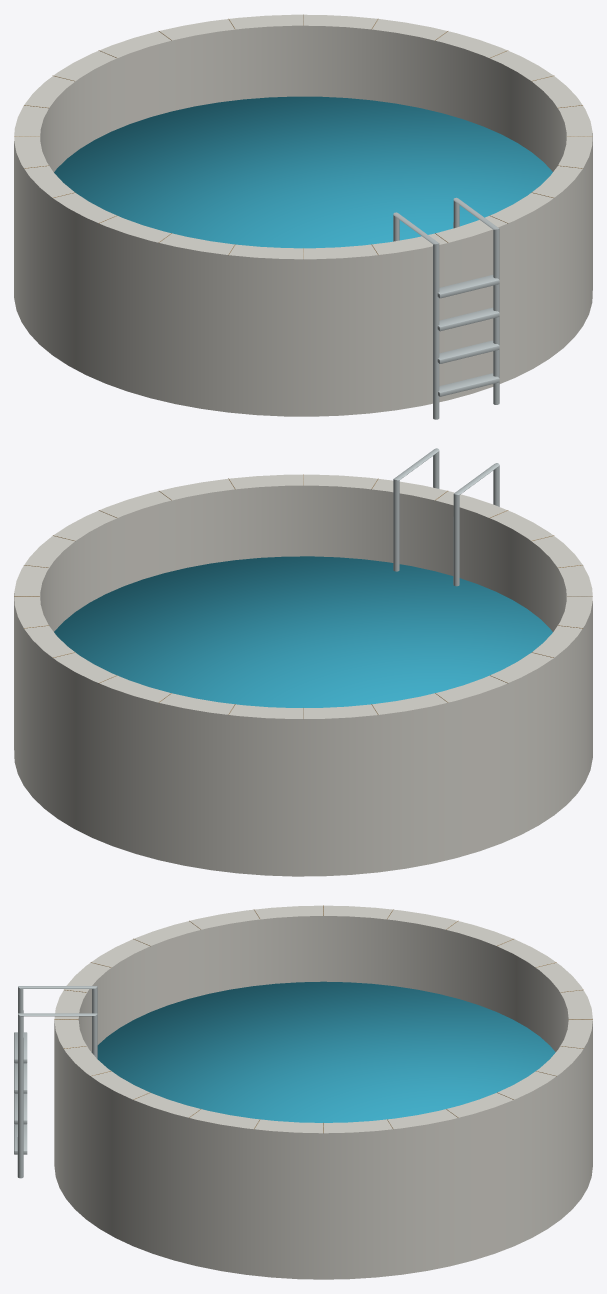
File: piscina_redonda_elevada_base.glb
The picture shows the model from 3 angles, top to bottom: view 1: azimuth 30°, elevation 25°; view 2: azimuth 150°, elevation 25°; view 3: azimuth 270°, elevation 25°; orthographic projection. The views are drawn at different scales.
Parts seen in each view (by area): view 1: piscina_redonda_elevada_base; view 2: piscina_redonda_elevada_base; view 3: piscina_redonda_elevada_base.
Boxes of the visible parts, x1,y1,x2,y2 form: piscina_redonda_elevada_base: (14,14,592,419); piscina_redonda_elevada_base: (14,448,592,876); piscina_redonda_elevada_base: (14,905,592,1279).
Size of the model in its own units: 4 by 1.36 by 4.3.
4 materials, 1 textured.
